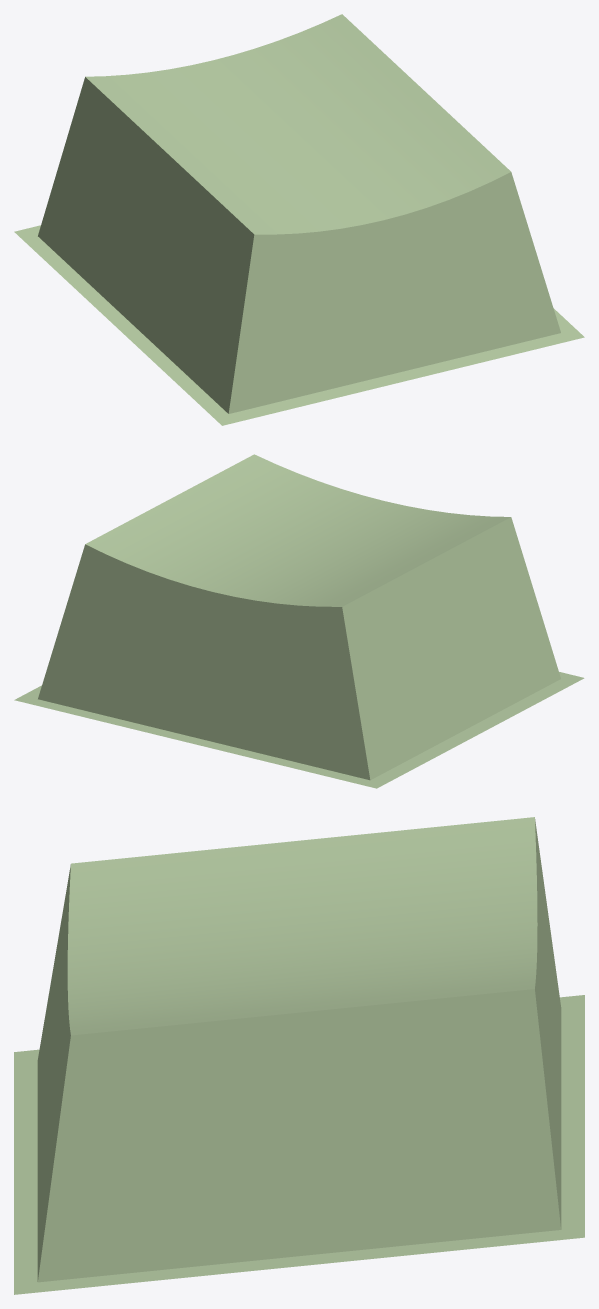
Rendered from original-22.obj.
3 renders of one model, top to bottom at view 1: azimuth 30°, elevation 25°; view 2: azimuth 150°, elevation 25°; view 3: azimuth 270°, elevation 25°, orthographic. The views are drawn at different scales.
Parts seen in each view (by area): view 1: kb_key2_9/kb_key2/mesh3/mesh3-geometry#mesh3-geometry; view 2: kb_key2_9/kb_key2/mesh3/mesh3-geometry#mesh3-geometry; view 3: kb_key2_9/kb_key2/mesh3/mesh3-geometry#mesh3-geometry.
Part boxes in pixels (left/top/right/bottom): kb_key2_9/kb_key2/mesh3/mesh3-geometry#mesh3-geometry: left=14, top=14, right=584, bottom=425; kb_key2_9/kb_key2/mesh3/mesh3-geometry#mesh3-geometry: left=14, top=454, right=584, bottom=788; kb_key2_9/kb_key2/mesh3/mesh3-geometry#mesh3-geometry: left=14, top=817, right=584, bottom=1294.
Size of the model in its own units: 0.0768 by 0.0399 by 0.0764.
